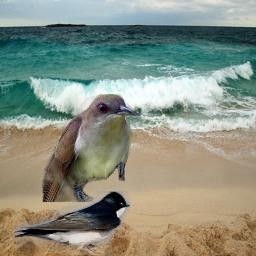Cuckoo: (42, 94, 136, 202)
Swallow: (13, 191, 130, 255)
